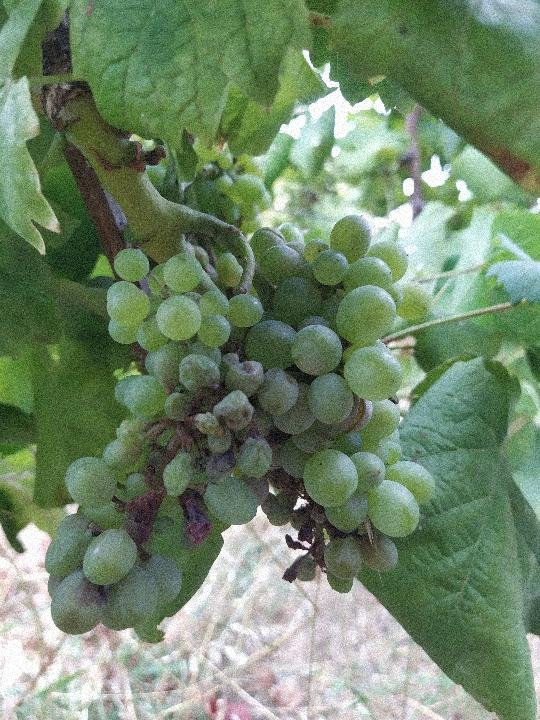grape: (41, 211, 440, 638)
